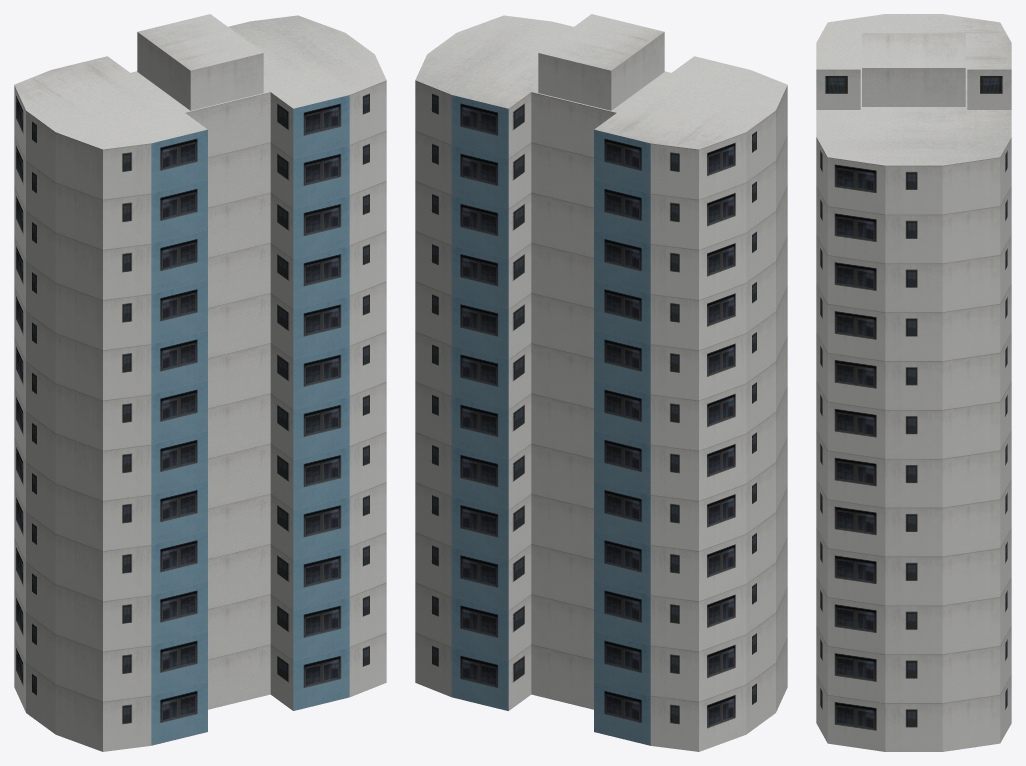
File: Building-01.fbx
3 views of the same model, side by side, from view 1: azimuth 30°, elevation 25°; view 2: azimuth 150°, elevation 25°; view 3: azimuth 270°, elevation 25° (orthographic). The views are drawn at different scales.
Visible parts, largest first — view 1: Building-01; view 2: Building-01; view 3: Building-01.
Part boxes in pixels (x1,y1,x2,y2): Building-01: (14, 14, 386, 751); Building-01: (415, 14, 787, 751); Building-01: (816, 14, 1011, 751).
Size of the model in its own units: 2495 by 4799 by 1358.
